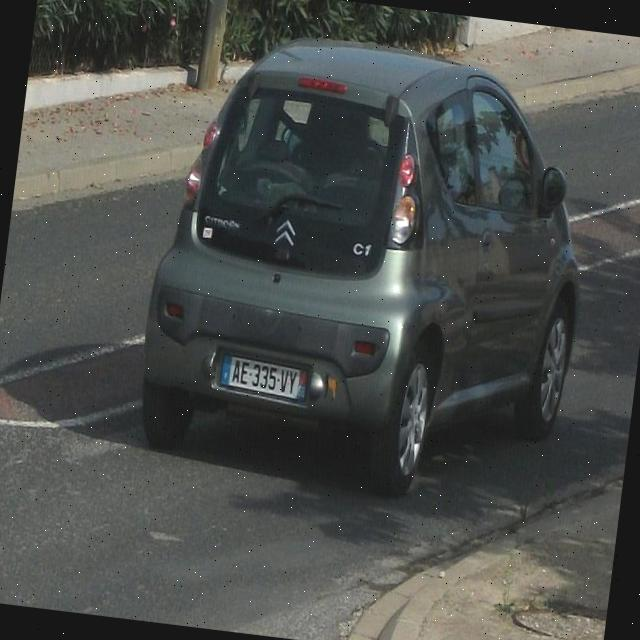EU: (219, 353, 307, 402)
France: (216, 352, 232, 388)
